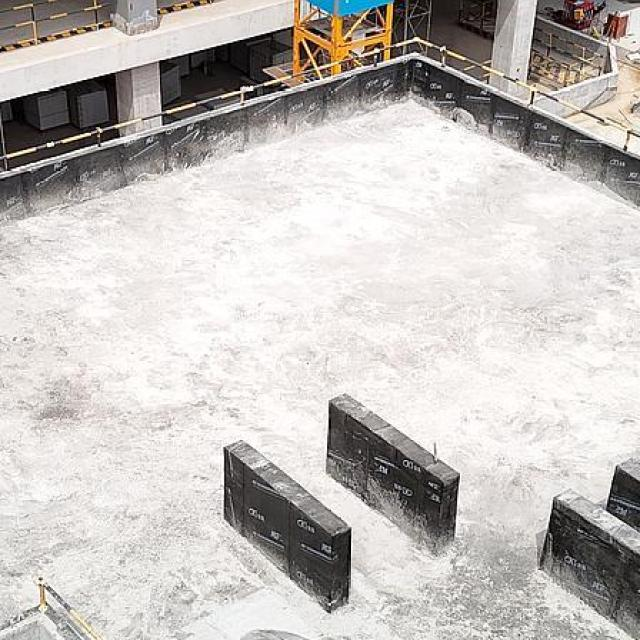edge_guardrail: (0, 36, 640, 171), (0, 0, 113, 50), (533, 26, 603, 83)
